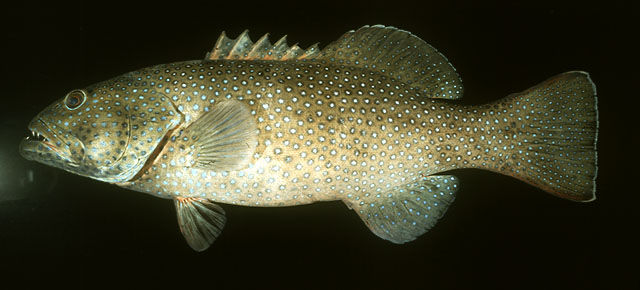fish: (18, 23, 599, 252)
